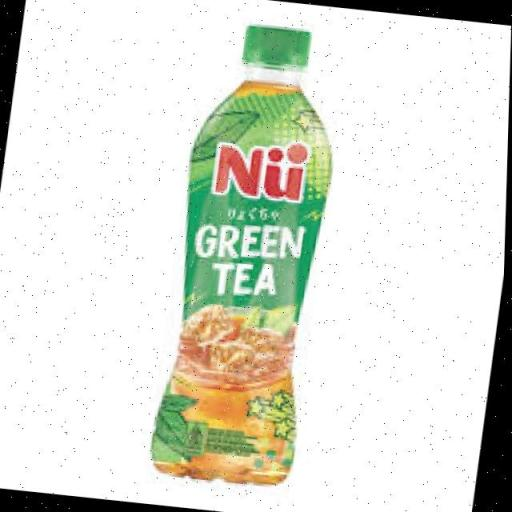plastic: (148, 10, 354, 490)
